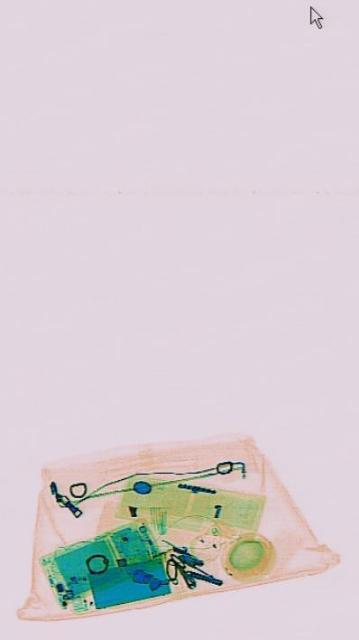Scissors: (161, 548, 194, 598)
